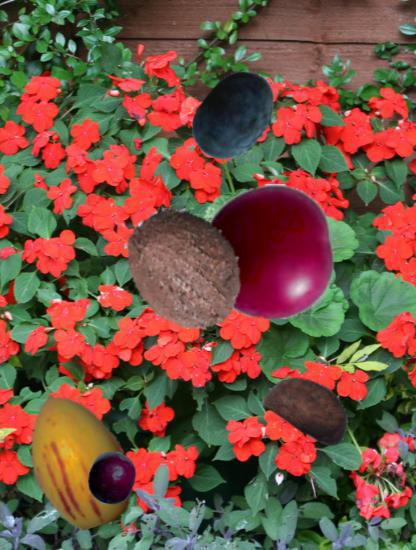Blueberry: (187, 68, 284, 165)
Cherry: (202, 184, 337, 319)
Chestnut: (265, 362, 357, 454)
Cocos: (116, 201, 252, 337)
Pepino: (9, 391, 147, 529)
Plum: (85, 451, 139, 505)
